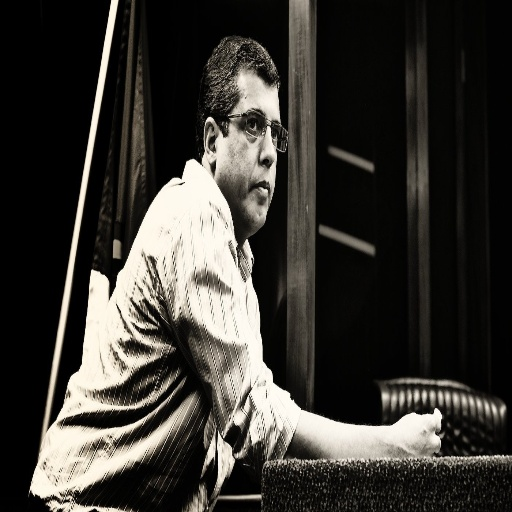hand: (387, 407, 455, 461)
